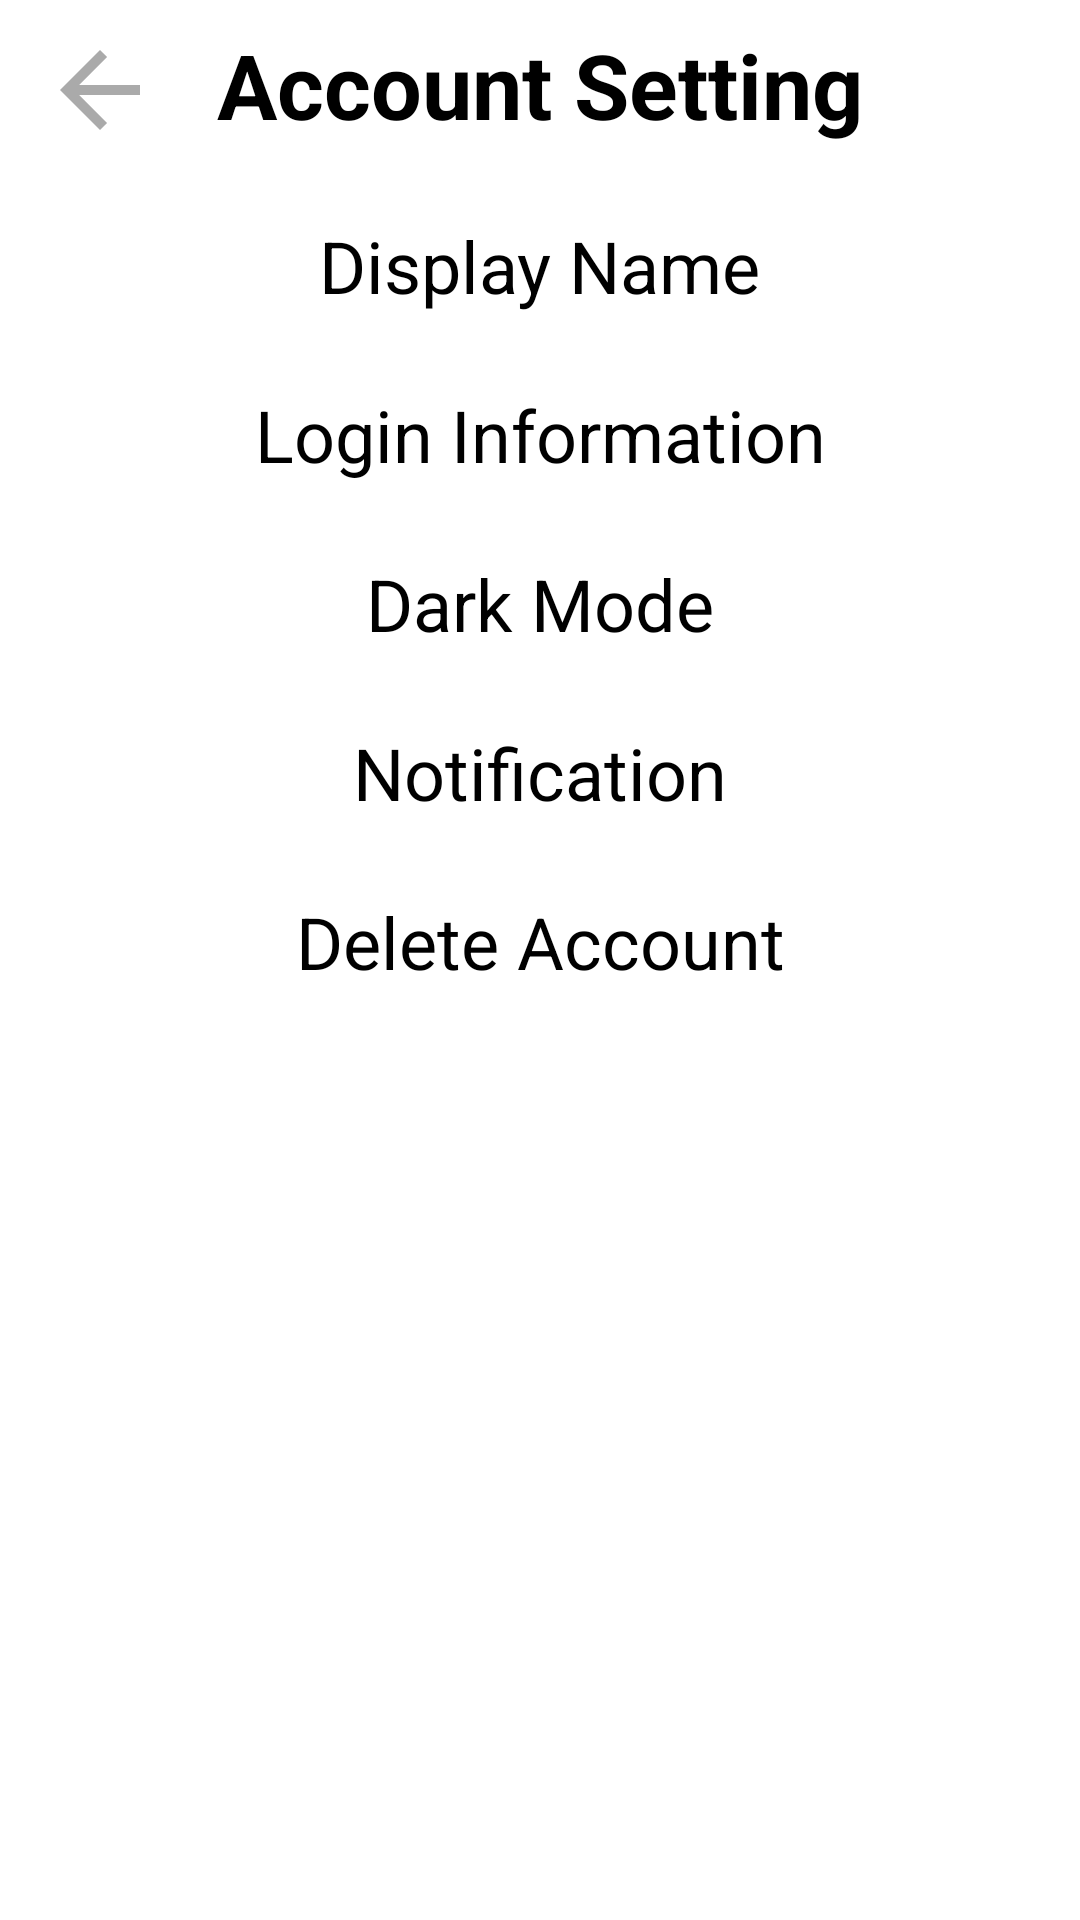

Icons on this 1080w x 1920h Android screen, each with the point to tap as [x,y]:
arrow back: [100,90]
